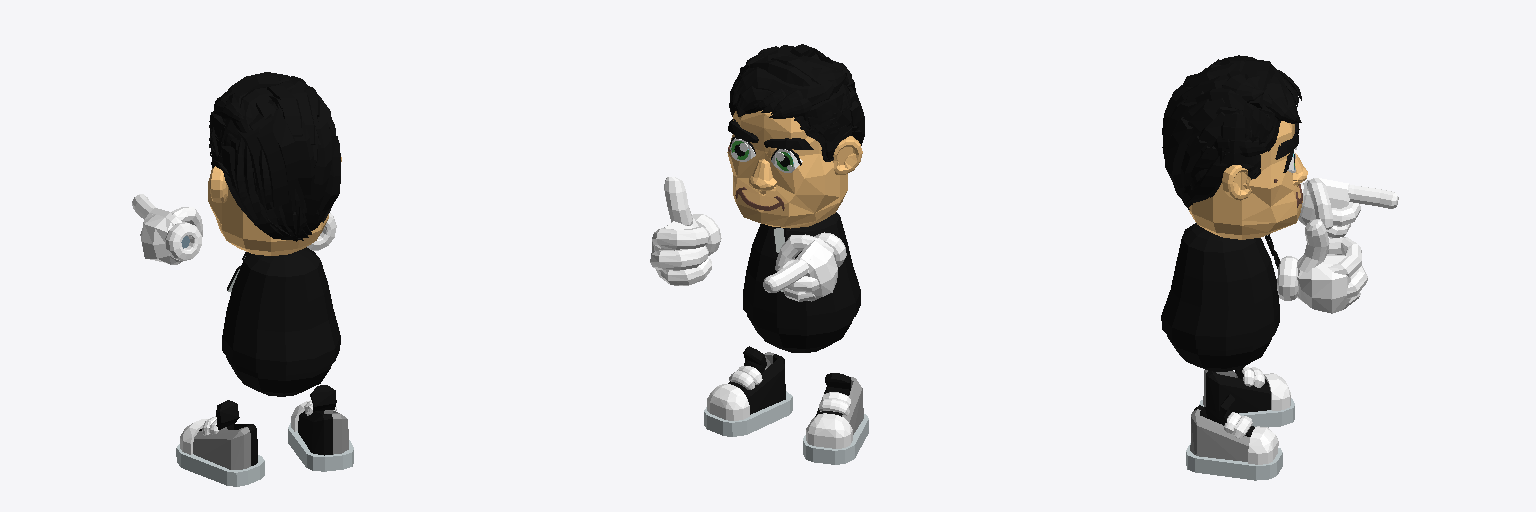
3 views of the same model, side by side, from view 1: azimuth 30°, elevation 25°; view 2: azimuth 150°, elevation 25°; view 3: azimuth 270°, elevation 25° (orthographic).
Parts seen in each view (by area): view 1: group[number redacted], group[number redacted], group[number redacted], group[number redacted], group[number redacted], group[number redacted], group[number redacted], group[number redacted], group[number redacted], group[number redacted], group[number redacted], group[number redacted] (+5 smaller); view 2: group[number redacted], group[number redacted], group[number redacted], group[number redacted], group[number redacted], group[number redacted], group[number redacted], group[number redacted], group[number redacted], group[number redacted], group[number redacted], group[number redacted] (+1 smaller); view 3: group[number redacted], group[number redacted], group[number redacted], group[number redacted], group[number redacted], group[number redacted], group[number redacted], group[number redacted], group[number redacted], group[number redacted], group[number redacted], group[number redacted] (+3 smaller).
Part boxes in pixels (x1,y1,x2,y2): group[number redacted]: (222,247,340,396); group[number redacted]: (176,400,264,486); group[number redacted]: (288,385,353,471); group[number redacted]: (132,194,202,264); group[number redacted]: (208,168,328,255); group[number redacted]: (256,120,288,207); group[number redacted]: (273,107,303,211); group[number redacted]: (304,115,331,215); group[number redacted]: (233,76,307,132); group[number redacted]: (277,104,315,194); group[number redacted]: (267,86,302,136); group[number redacted]: (319,134,340,210); group[number redacted]: (743,212,860,352); group[number redacted]: (727,110,847,228); group[number redacted]: (704,346,792,436); group[number redacted]: (650,177,721,285); group[number redacted]: (803,373,868,464); group[number redacted]: (763,232,846,301); group[number redacted]: (732,67,833,105); group[number redacted]: (833,136,862,174); group[number redacted]: (740,60,811,86); group[number redacted]: (735,86,772,116); group[number redacted]: (746,49,848,85); group[number redacted]: (749,159,776,190); group[number redacted]: (1161,223,1279,371); group[number redacted]: (1189,121,1302,239); group[number redacted]: (1186,394,1282,480); group[number redacted]: (1277,219,1367,313); group[number redacted]: (1199,366,1294,427); group[number redacted]: (1298,178,1398,237); group[number redacted]: (1165,117,1193,188); group[number redacted]: (1220,56,1264,101); group[number redacted]: (1266,65,1293,120); group[number redacted]: (1222,165,1251,200); group[number redacted]: (1187,98,1224,145); group[number redacted]: (1186,156,1226,203).
Size of the model in its own units: 0.6253 by 1.27 by 0.7193.